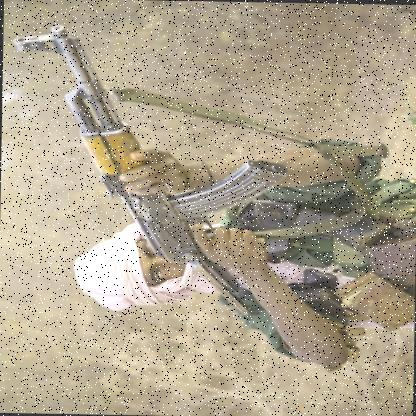rifle: (22, 23, 297, 316)
